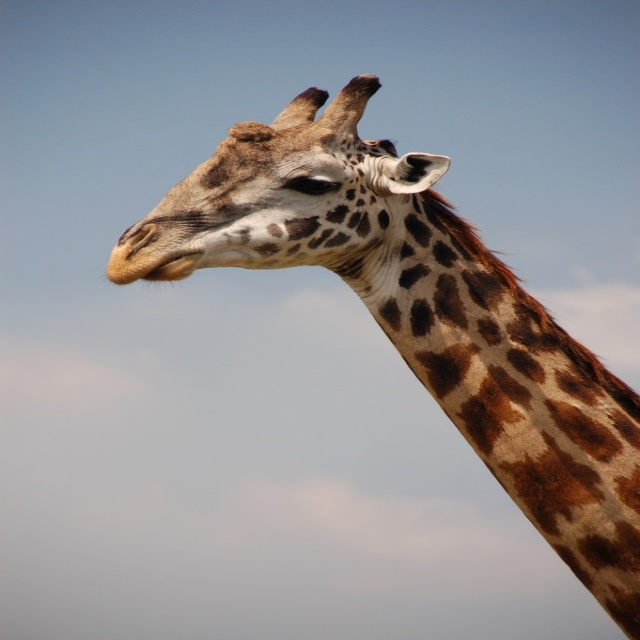Giraffe: (104, 99, 639, 598)
